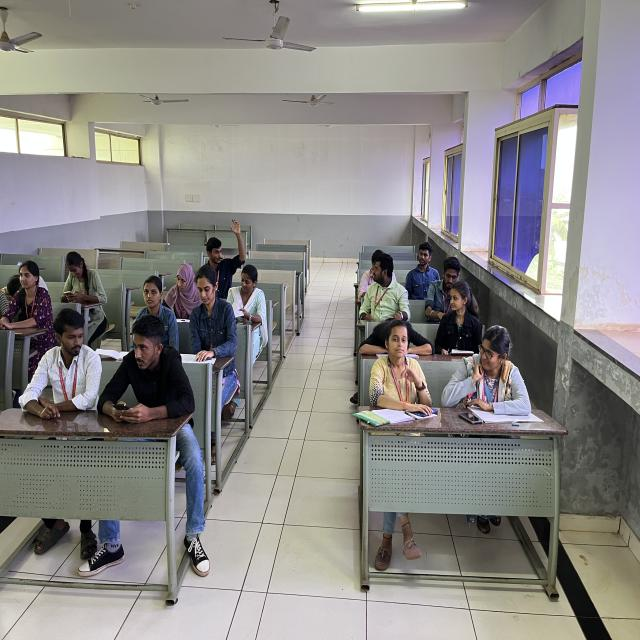Hand Rising: (206, 210, 248, 283)
Reading: (184, 267, 239, 367)
Sleeping: (354, 313, 438, 367)
Using Phone: (100, 311, 191, 427), (55, 250, 112, 312)
Writing: (228, 263, 270, 331), (164, 260, 204, 322)
